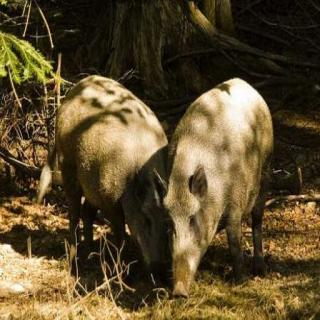Pig: (36, 60, 194, 296), (154, 71, 282, 320)
